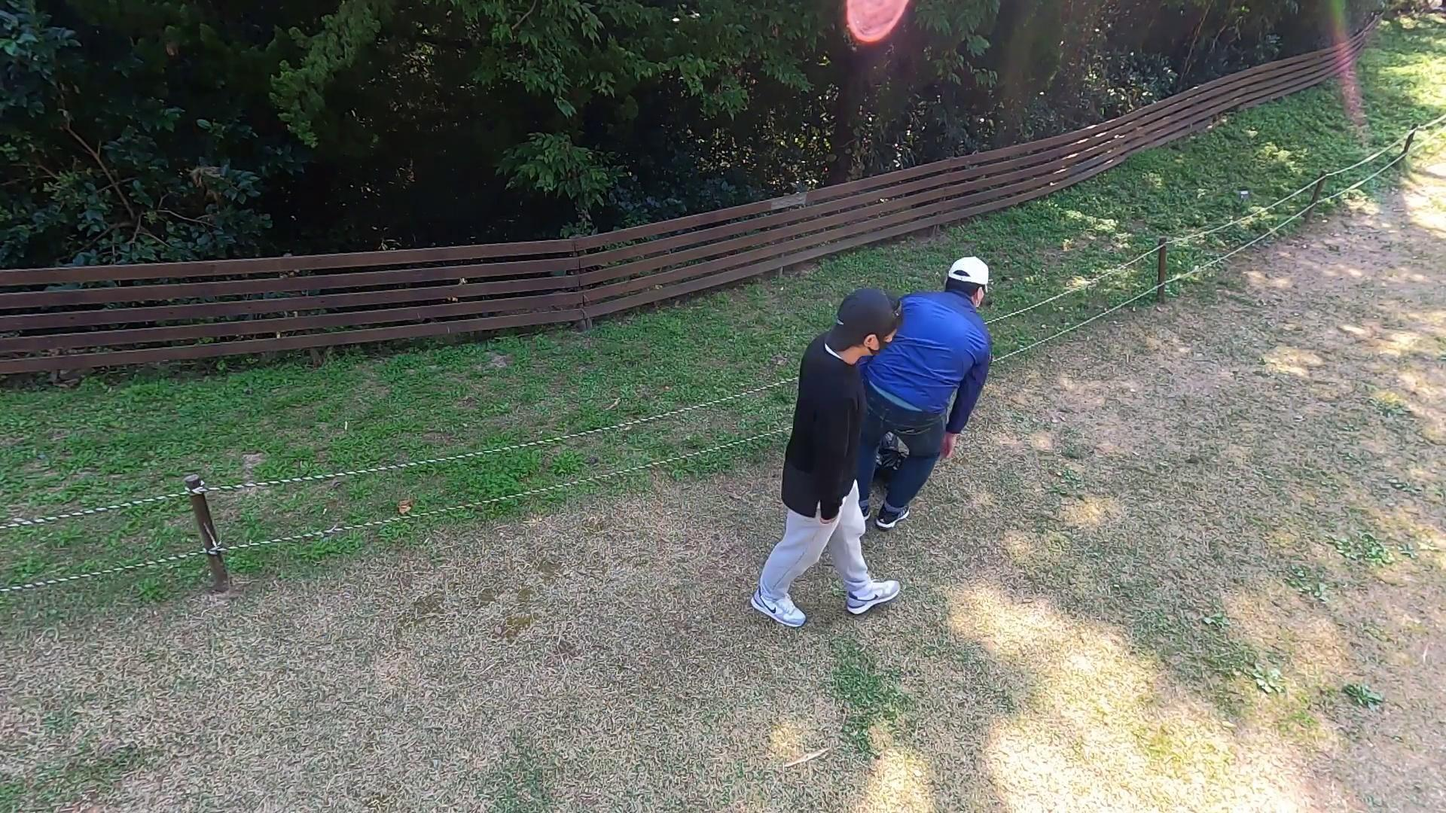person: (748, 285, 904, 628), (856, 256, 995, 531)
trash: (873, 431, 909, 487)
